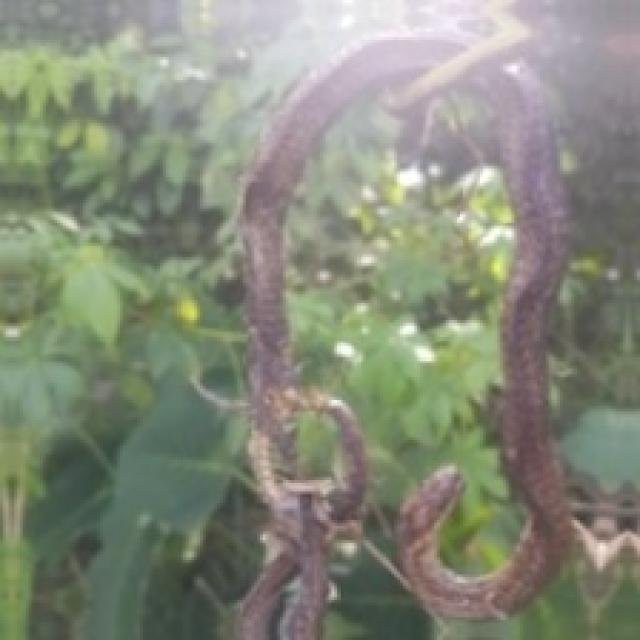reinhardts lined snake: (243, 20, 571, 614)
